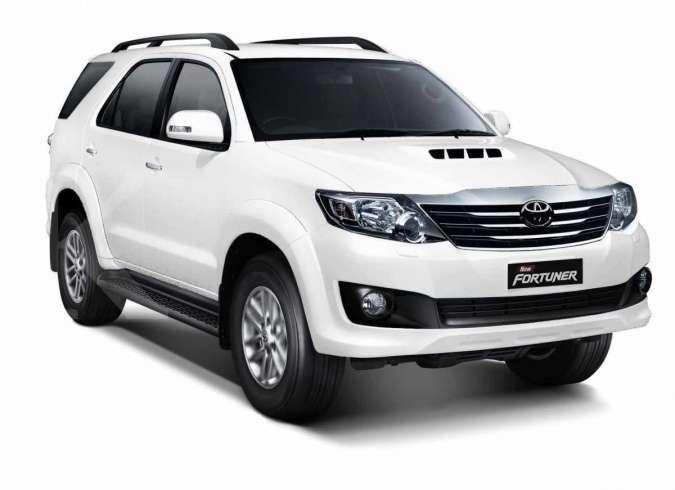mobil: (37, 27, 662, 438)
